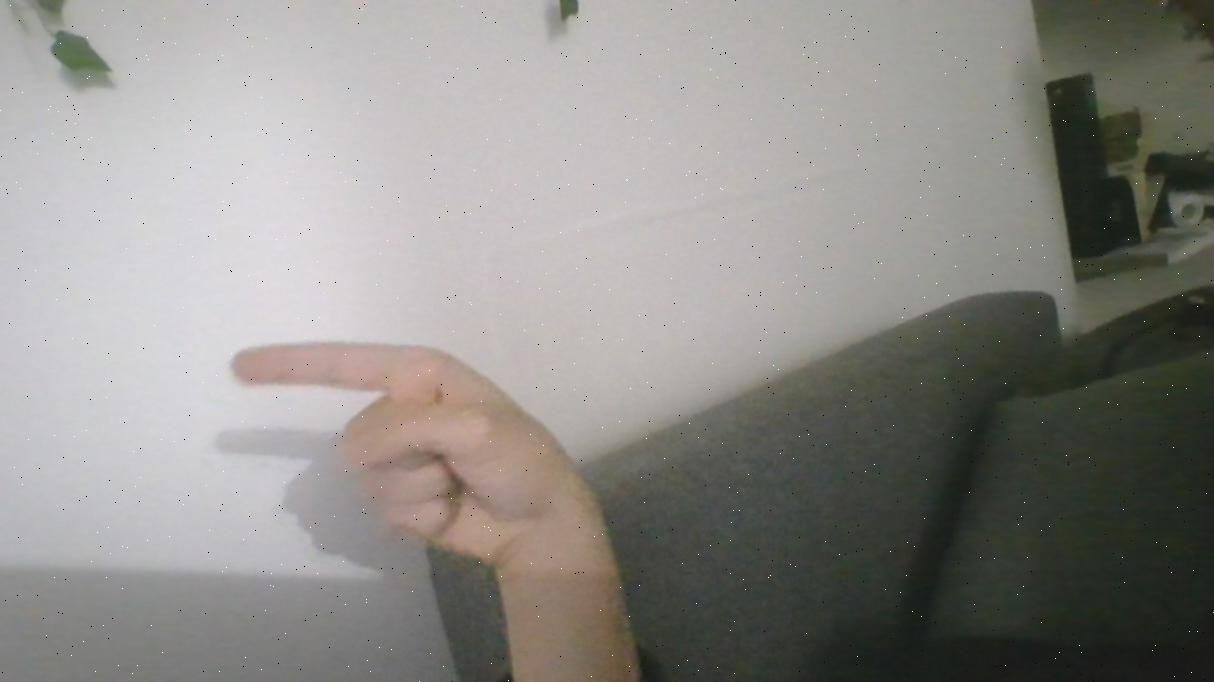left: (223, 332, 601, 572)
